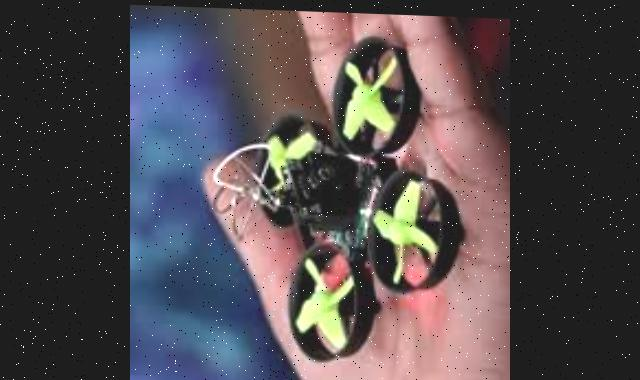drone: (214, 25, 474, 367)
